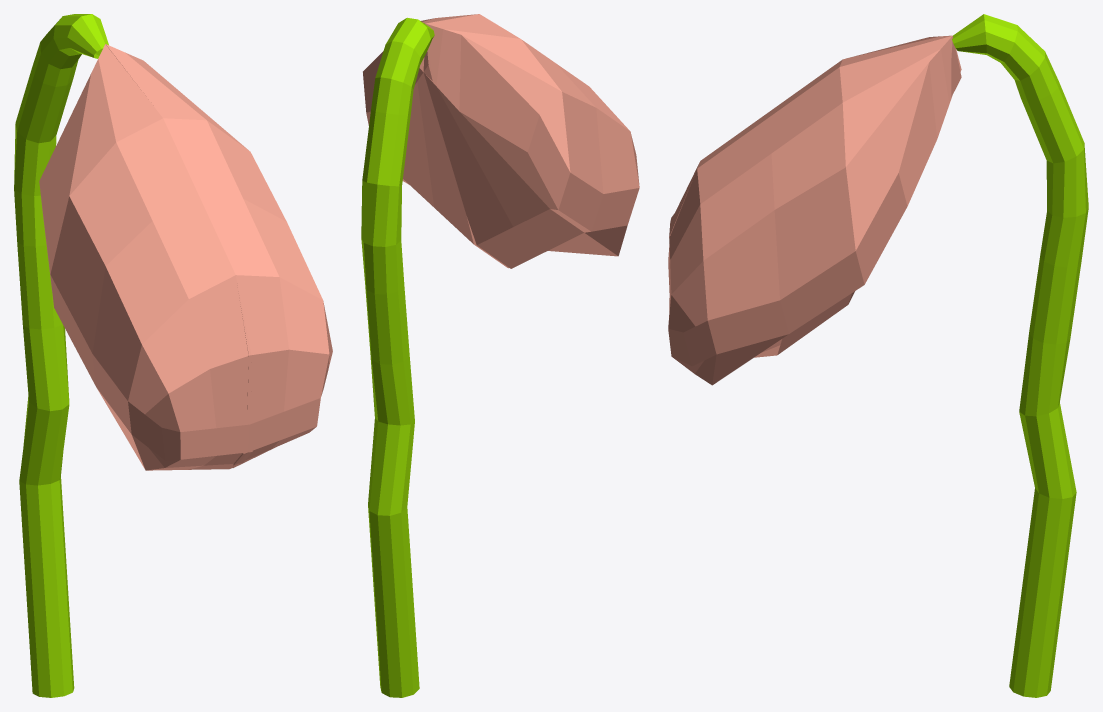
Rendered from Lima Bean Germination stage 1.fbx.
3 views of the same model, side by side, from view 1: azimuth 30°, elevation 25°; view 2: azimuth 150°, elevation 25°; view 3: azimuth 270°, elevation 25° (orthographic). The views are drawn at different scales.
Parts seen in each view (by area): view 1: Plane, Cylinder; view 2: Plane, Cylinder; view 3: Plane, Cylinder.
Part boxes in pixels (bbox=[...]): Plane: bbox=[39, 44, 332, 470]; Cylinder: bbox=[14, 14, 108, 697]; Plane: bbox=[363, 14, 639, 268]; Cylinder: bbox=[361, 17, 434, 697]; Plane: bbox=[668, 35, 961, 385]; Cylinder: bbox=[952, 14, 1088, 697].
Bounding box in the file's own units: 131 × 413 × 232.
